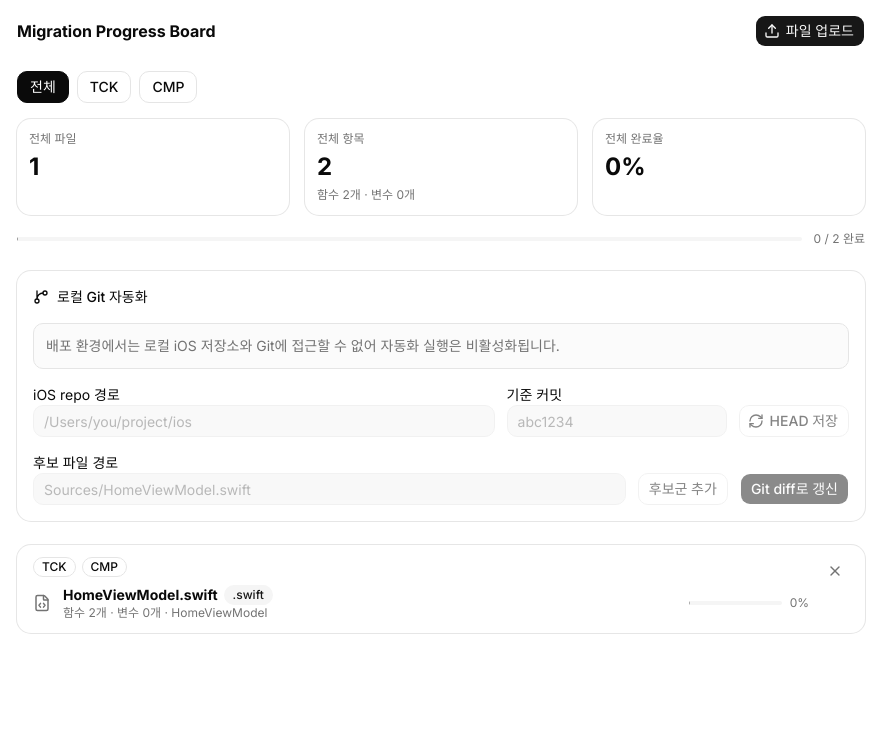
MIGRATE-004: 파일 카드 확장하여 함수 목록 확인 › 파일 카드 클릭 시 클래스별 함수 목록과 체크박스가 표시된다
This screenshot has width=883, height=748.
Click the text "HomeViewModel.swift" at (140, 595), box [63, 585, 218, 605]
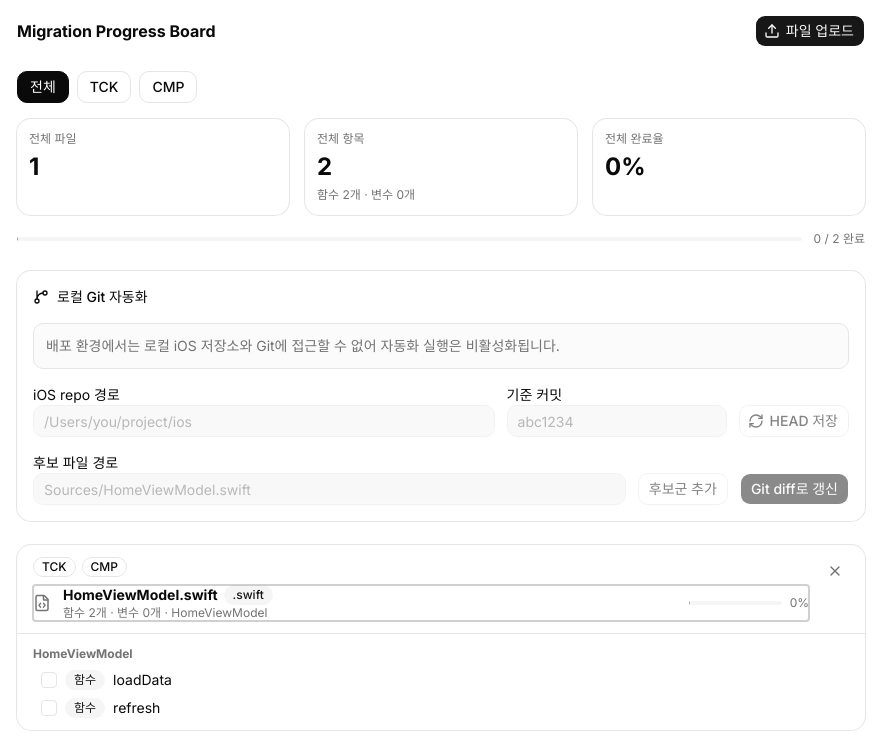
Now the text "HomeViewModel" is shown, box [33, 646, 133, 661]
Now the text "loadData" is shown, box [113, 671, 172, 688]
Now the text "refresh" is shown, box [113, 699, 160, 716]
